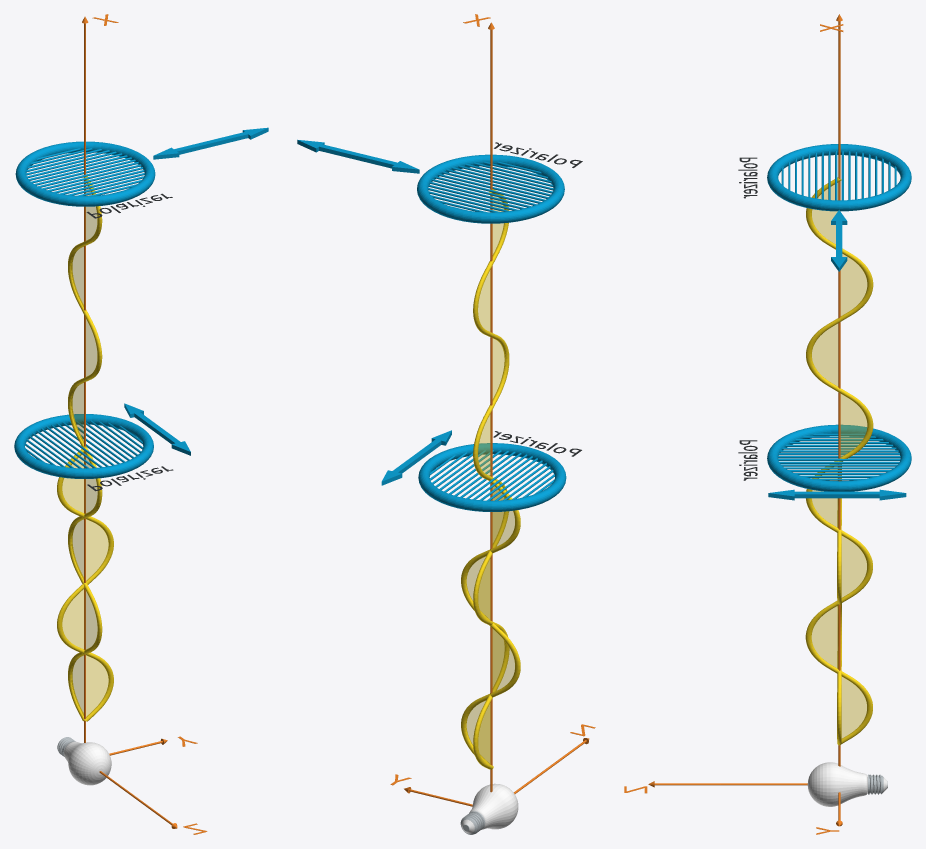
The model's file is Polarizer.obj.
3 renders of one model, left to right at view 1: azimuth 30°, elevation 25°; view 2: azimuth 150°, elevation 25°; view 3: azimuth 270°, elevation 25°, orthographic. The views are drawn at different scales.
Parts seen in each view (by area): view 1: group_0_40919, group_0_-1023419110, group_0_16768282, group_0_16089887, group_0_16448250, group_0_2829873; view 2: group_0_40919, group_0_-1023419110, group_0_16768282, group_0_16089887, group_0_16448250, group_0_2829873; view 3: group_0_40919, group_0_-1023419110, group_0_16768282, group_0_16089887, group_0_16448250, group_0_2829873.
Boxes of the visible parts, x1,y1,x2,y2 form: group_0_40919: [14, 127, 268, 478]; group_0_-1023419110: [62, 183, 108, 717]; group_0_16768282: [57, 176, 113, 721]; group_0_16089887: [82, 14, 207, 834]; group_0_16448250: [64, 741, 111, 785]; group_0_2829873: [86, 193, 173, 491]; group_0_40919: [297, 139, 566, 511]; group_0_-1023419110: [467, 196, 514, 764]; group_0_16768282: [461, 189, 520, 769]; group_0_16089887: [390, 14, 595, 806]; group_0_16448250: [461, 783, 518, 833]; group_0_2829873: [493, 142, 582, 456]; group_0_40919: [767, 144, 911, 500]; group_0_-1023419110: [812, 183, 866, 738]; group_0_16768282: [805, 177, 873, 745]; group_0_16089887: [624, 14, 843, 834]; group_0_16448250: [807, 762, 887, 806]; group_0_2829873: [738, 157, 757, 480].
Size of the model in its own units: 132 by 392 by 129.
